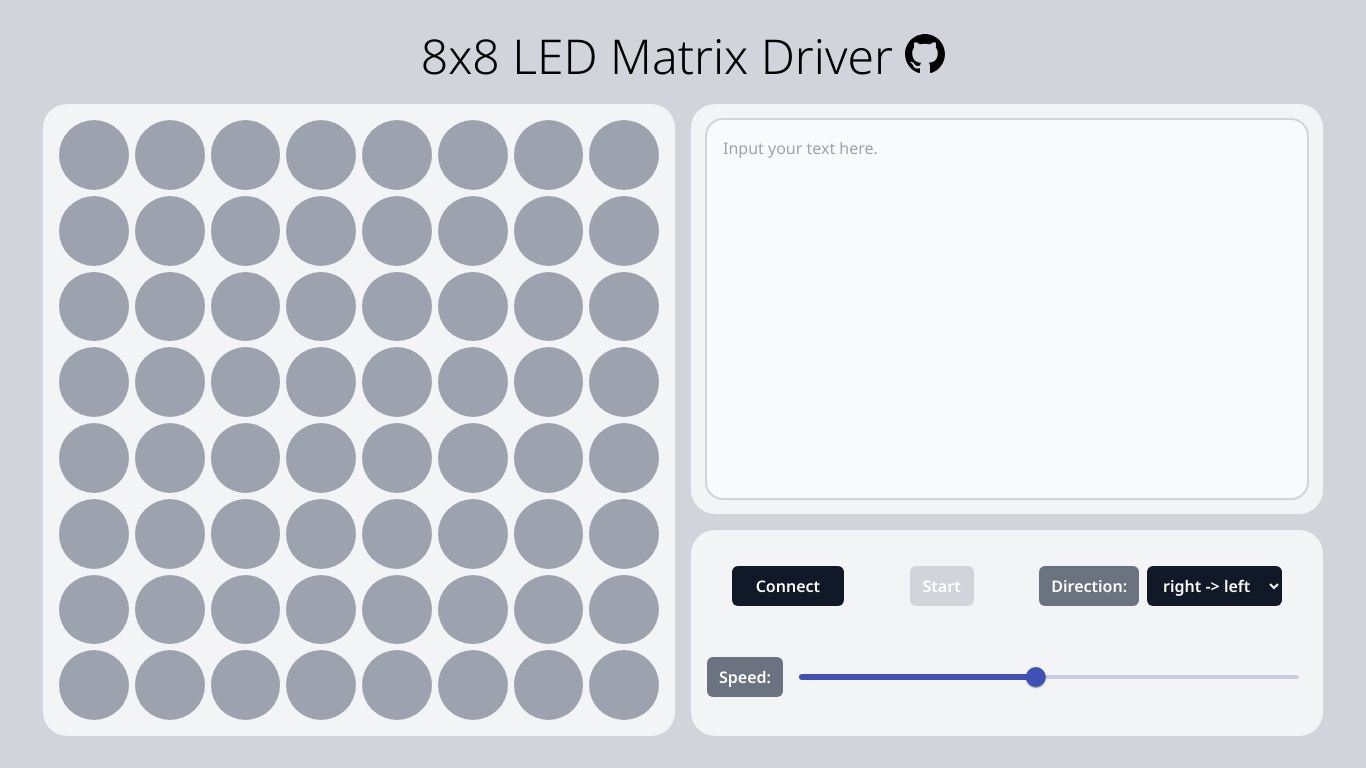
Test: LED-MATRIX › Disconnects from serial port
Step 1. Click the button "Connect" → (788, 586), box top-left (732, 566), bottom-right (844, 606)
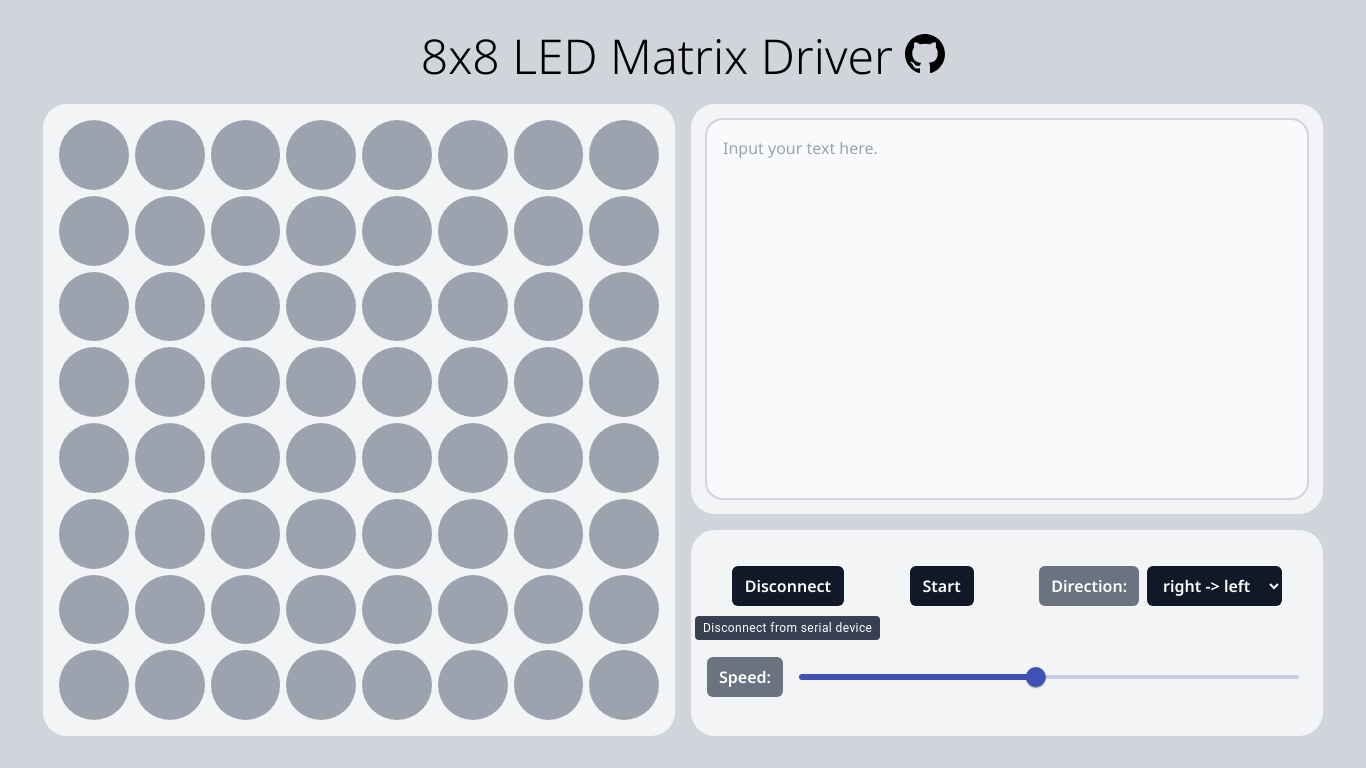
Step 2. Click the button "Disconnect" → (788, 586), box top-left (732, 566), bottom-right (844, 606)
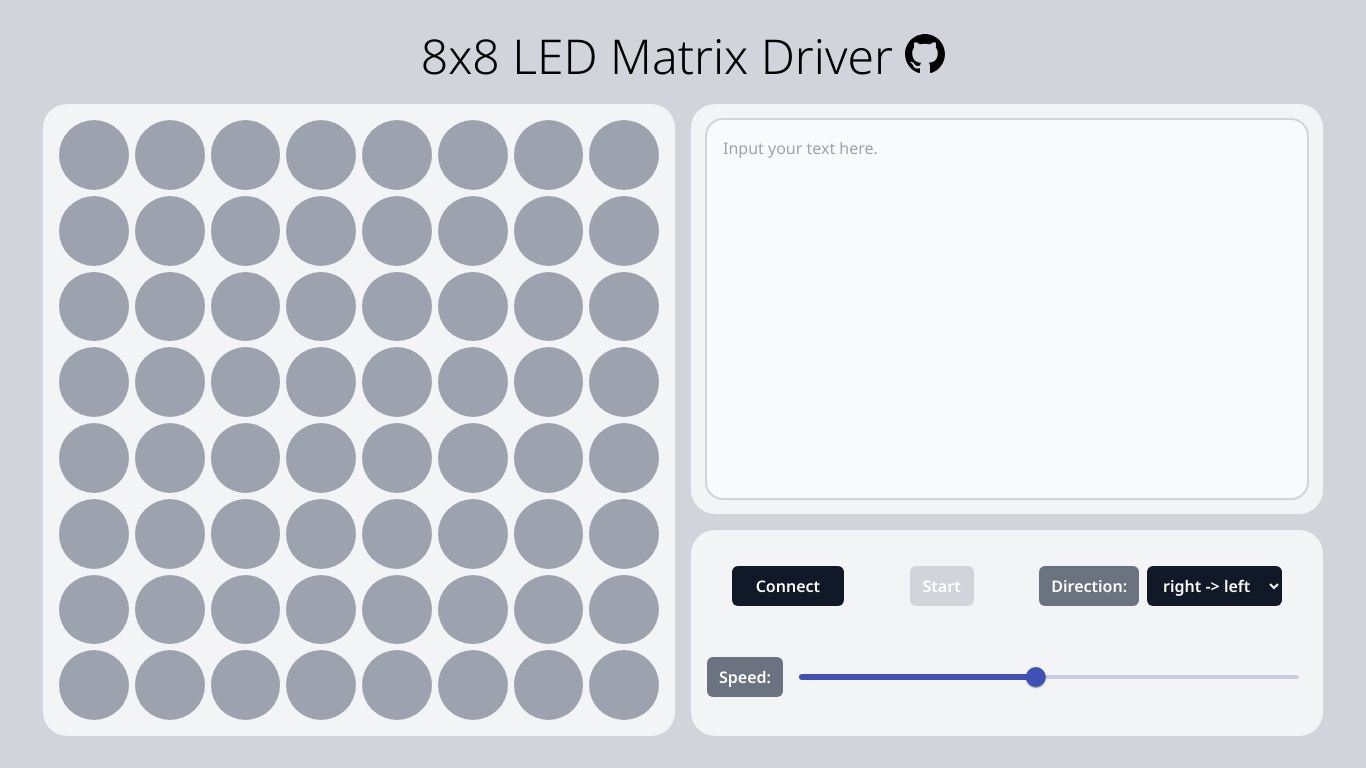
Expected: the button "Start" is disabled, top-left (910, 566), bottom-right (974, 606)
